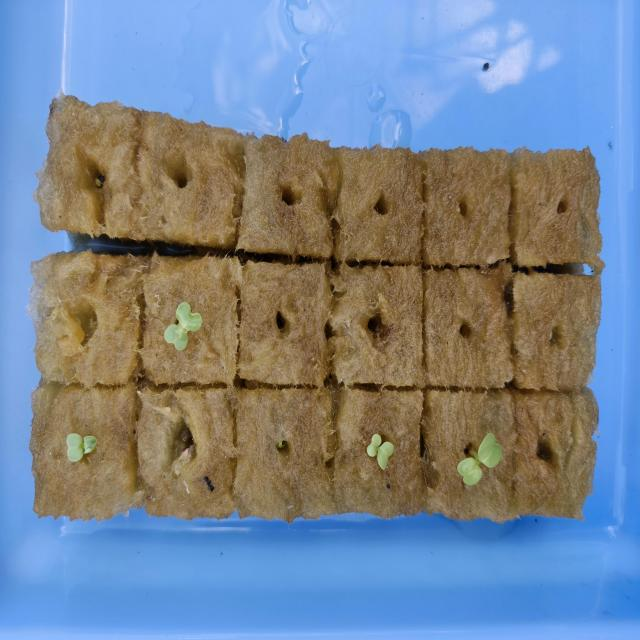daun-pakcoy: (477, 432, 502, 468), (176, 302, 202, 331), (457, 457, 482, 486), (82, 425, 100, 461), (164, 324, 188, 350), (66, 433, 84, 462), (377, 441, 394, 470), (367, 433, 382, 457)
